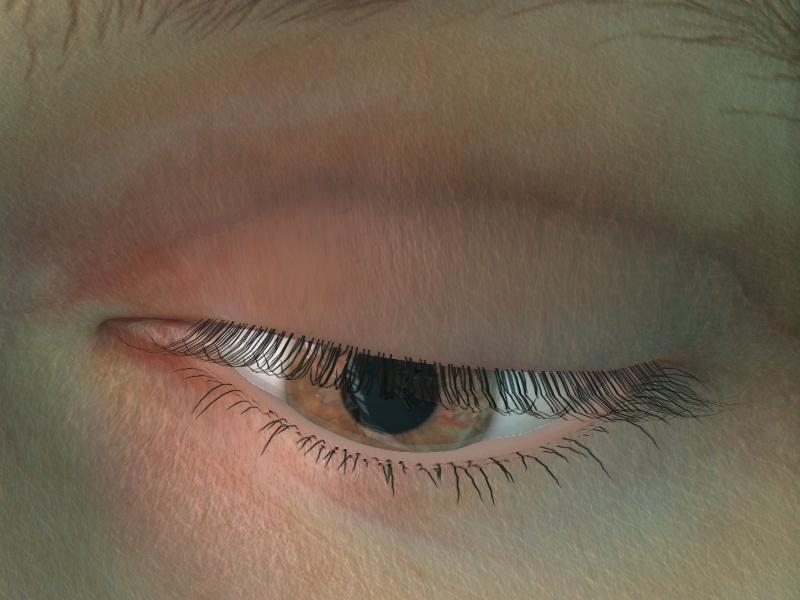eye: (286, 334, 492, 448)
